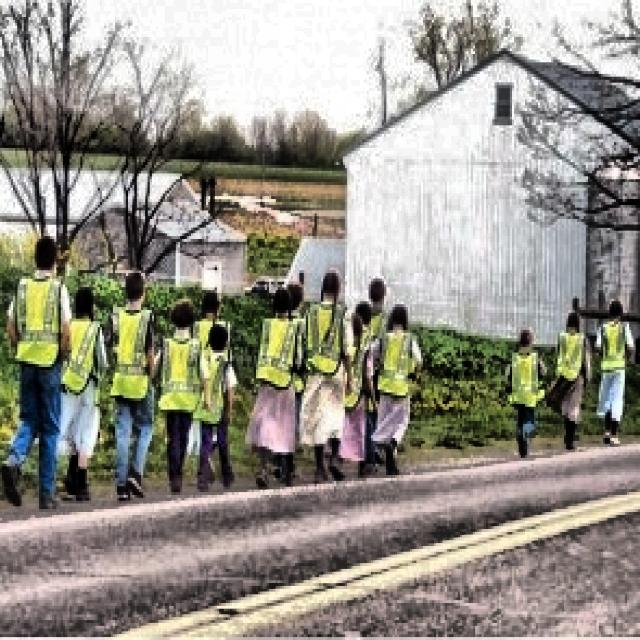safety_helmet: (4, 219, 56, 263)
safety_jacket: (11, 276, 65, 362), (110, 307, 150, 395), (373, 324, 414, 400), (304, 307, 346, 376), (166, 336, 198, 420), (258, 316, 294, 389), (71, 319, 97, 392), (513, 354, 539, 418), (557, 329, 586, 384), (602, 325, 624, 374)
